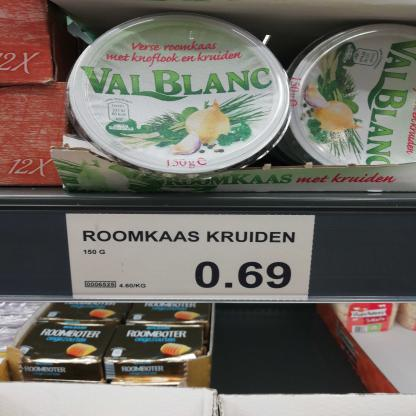prtg: (65, 214, 319, 301)
